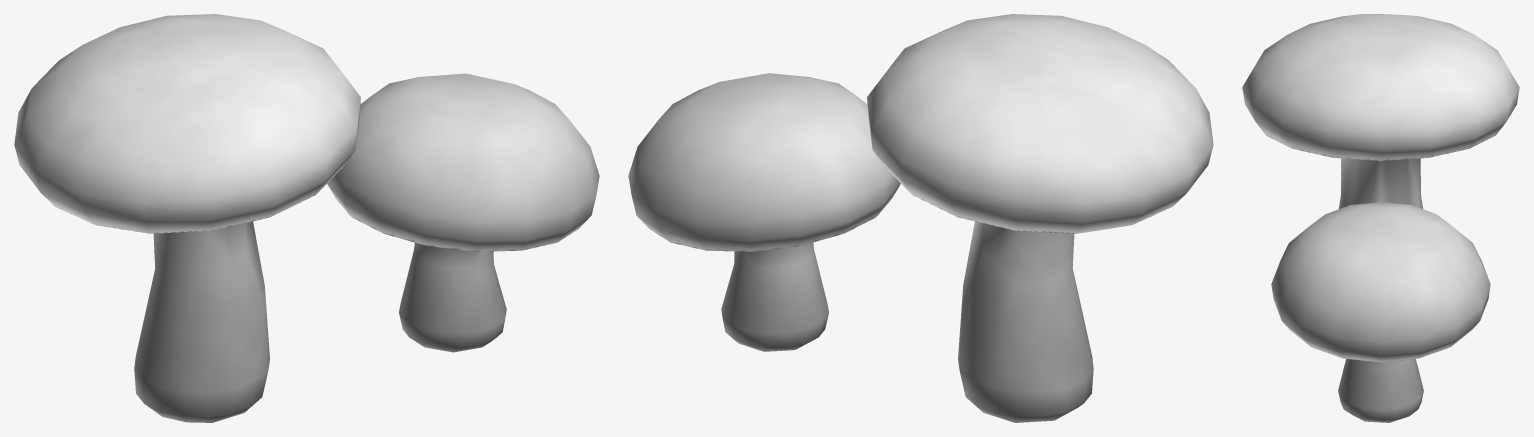
The model's file is Mushrooms.fbx.
The picture shows the model from 3 angles, left to right: view 1: azimuth 30°, elevation 25°; view 2: azimuth 150°, elevation 25°; view 3: azimuth 270°, elevation 25°; orthographic projection. The views are drawn at different scales.
Parts seen in each view (by area): view 1: Mushroom_01_LOD0, Mushroom_02_LOD0; view 2: Mushroom_01_LOD0, Mushroom_02_LOD0; view 3: Mushroom_01_LOD0, Mushroom_02_LOD0.
Part boxes in pixels (<box>): Mushroom_01_LOD0: <box>14,14,360,422</box>; Mushroom_02_LOD0: <box>327,73,599,352</box>; Mushroom_01_LOD0: <box>867,14,1213,422</box>; Mushroom_02_LOD0: <box>628,73,900,351</box>; Mushroom_01_LOD0: <box>1242,14,1519,208</box>; Mushroom_02_LOD0: <box>1271,202,1490,422</box>.
Size of what is drawn, in the model's own units: 37.86 by 21.1 by 23.7.
